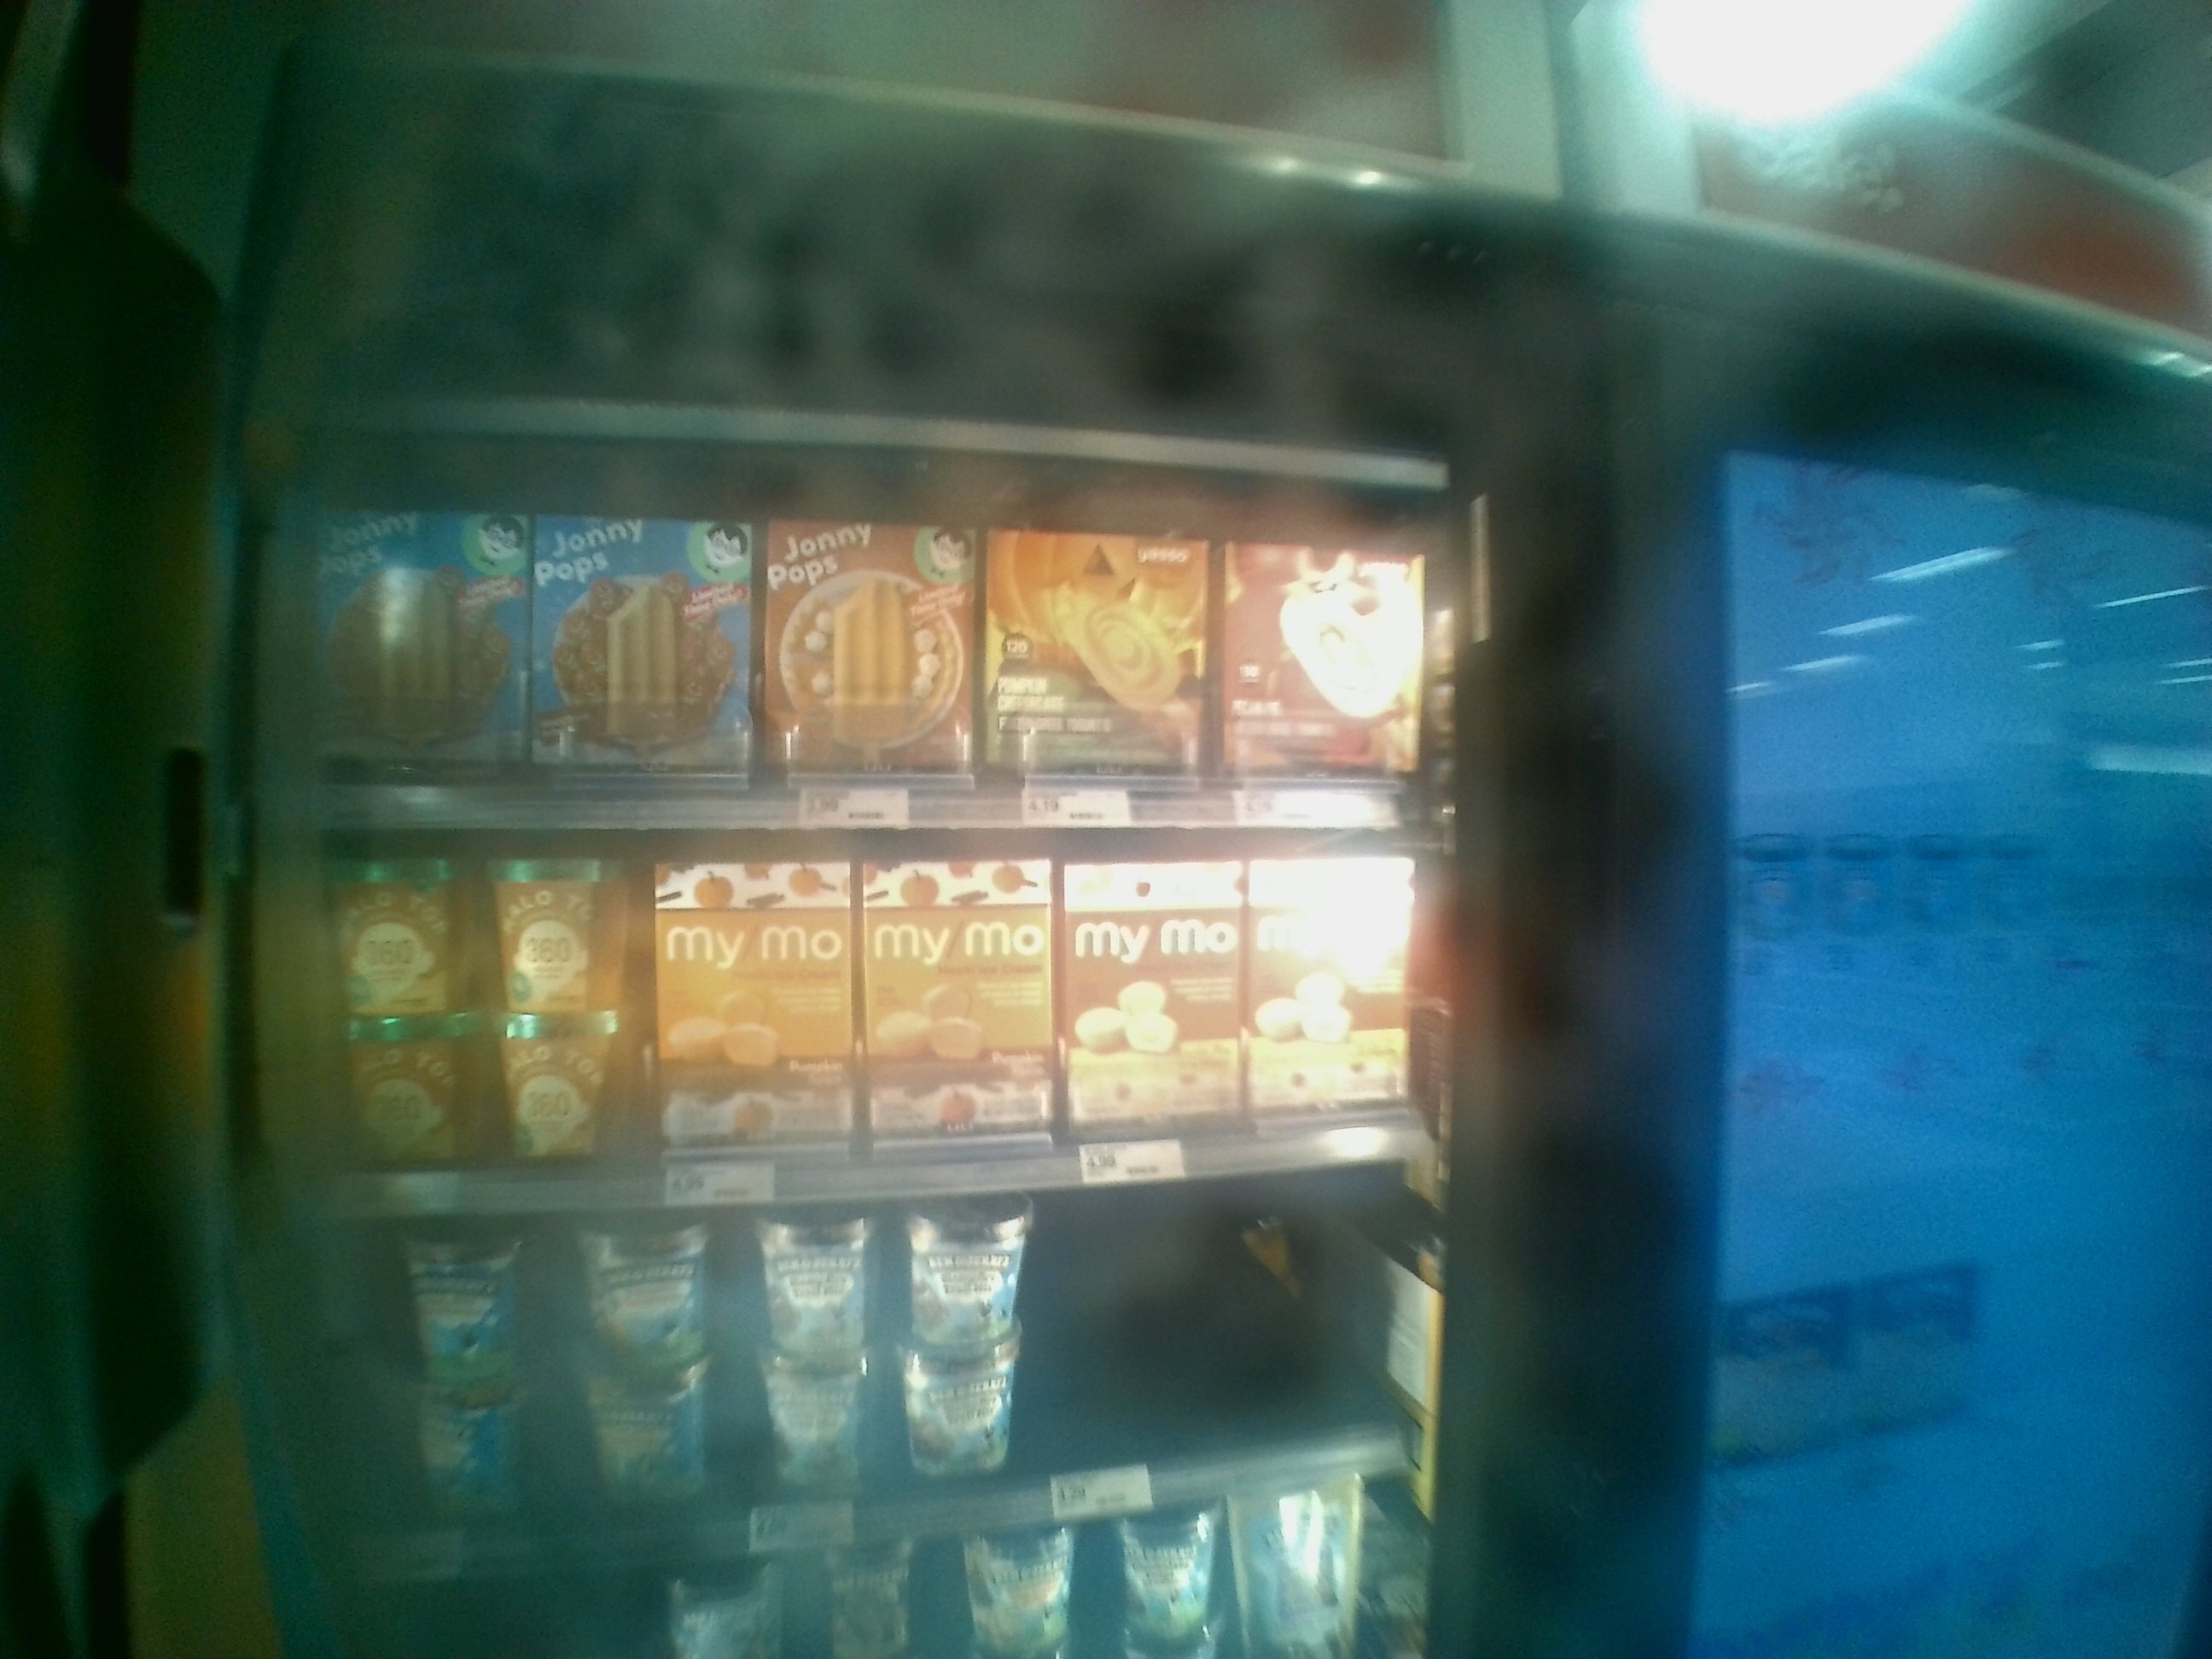shelf: (249, 437, 1432, 829), (275, 823, 1449, 1180), (279, 1187, 1406, 1476)
